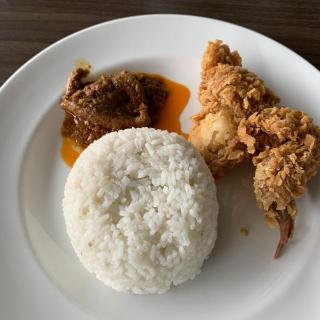Nasi: (63, 127, 217, 293)
